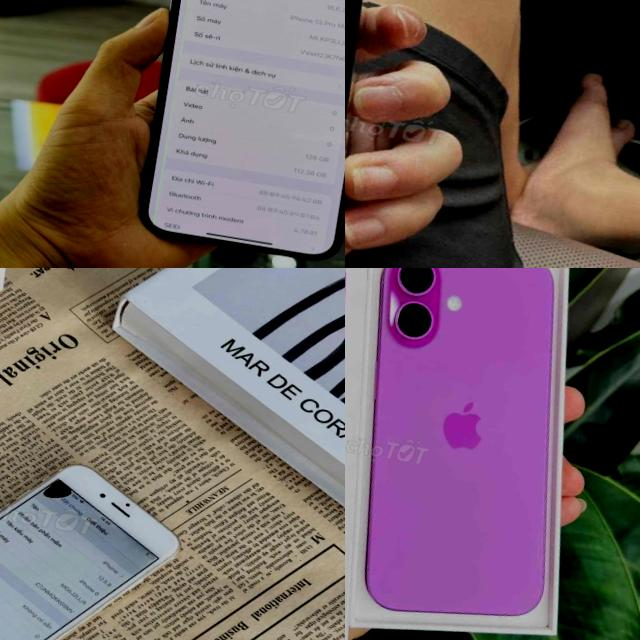gen_12_13: (136, 0, 345, 268)
gen_14: (345, 0, 414, 268)
gen_16: (345, 268, 606, 634)
gen_6: (0, 428, 193, 640)
